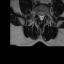CCS_normal: (40, 12, 42, 22)
LFS_normal: (44, 11, 46, 18)
LLS_normal: (42, 12, 44, 21)
RFS_stenosis: (36, 11, 38, 17)
RLS_normal: (38, 12, 40, 21)
